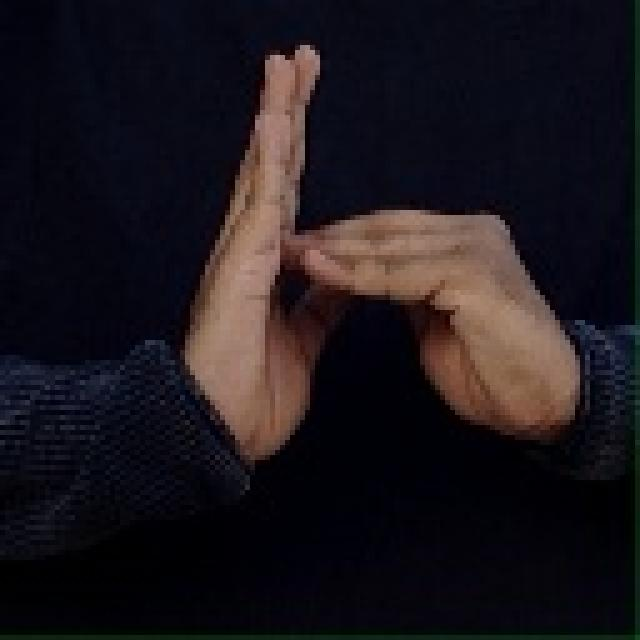Alphabet-Z: (160, 18, 588, 488)
